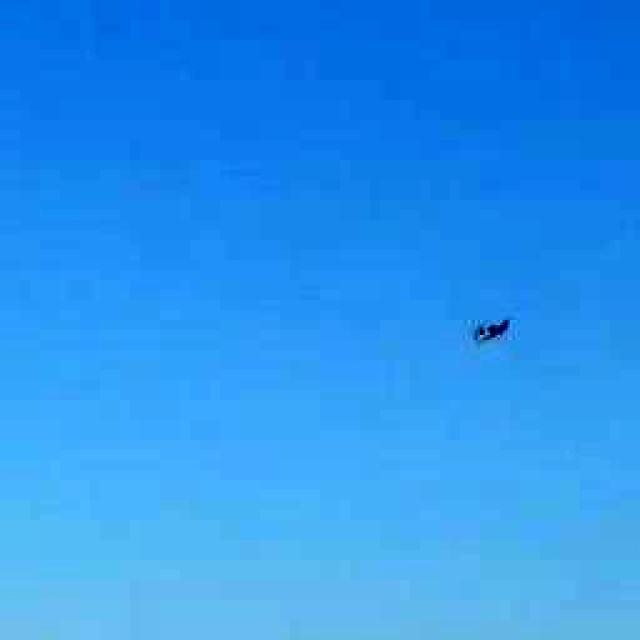bird: (436, 294, 544, 361)
